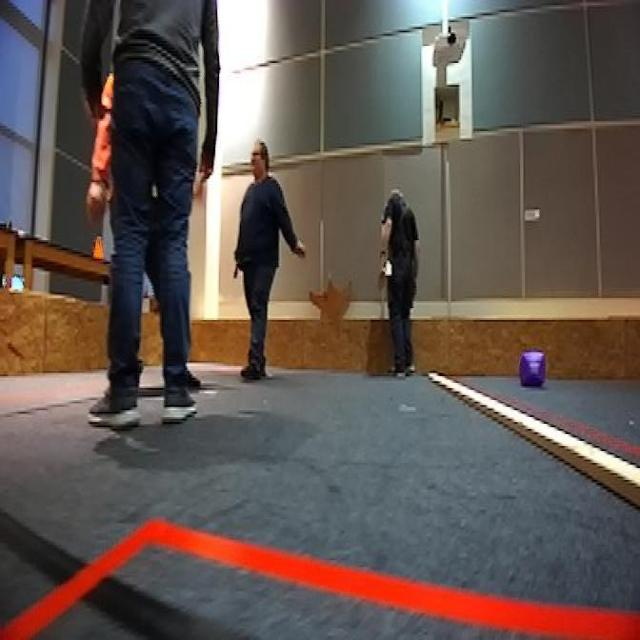frc_cube: (519, 351, 547, 395)
